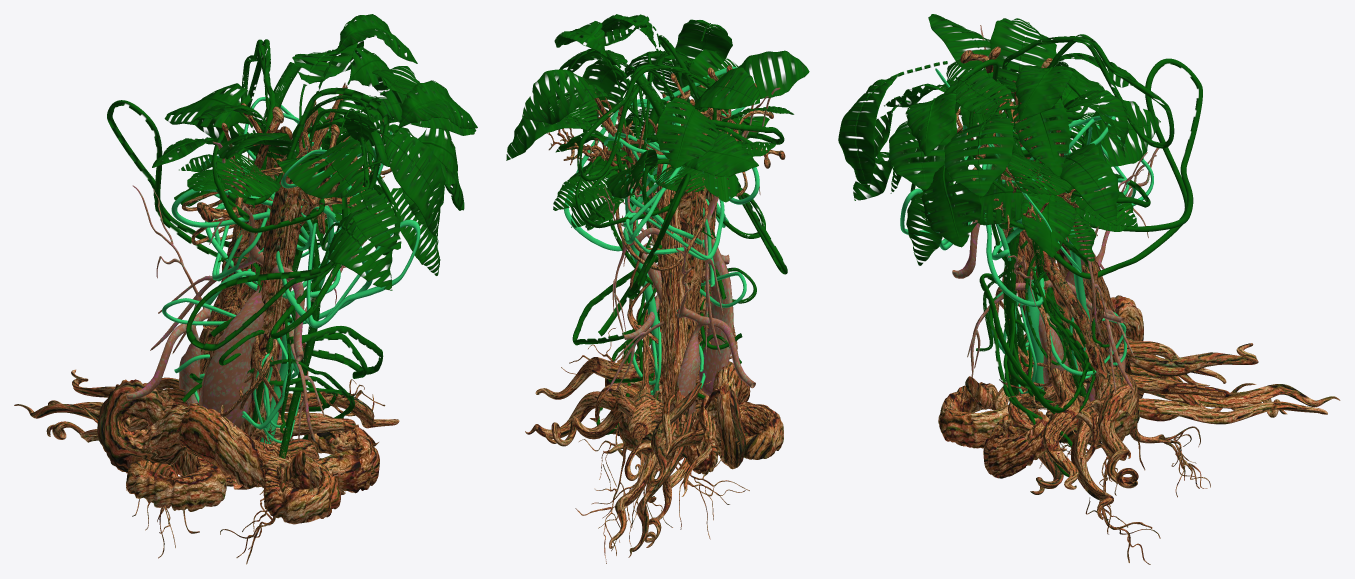
The model's file is treeone.1.glb.
3 views of the same model, side by side, from view 1: azimuth 30°, elevation 25°; view 2: azimuth 150°, elevation 25°; view 3: azimuth 270°, elevation 25° (orthographic). The views are drawn at different scales.
Visible parts, largest first — view 1: brambles_flat_brambles.001, human_liver_1128_gallbladder.007, a_steak_raw_132.026, neuron_cell_1131_a.005, jump_rope_246.042, leaf_004_mesh.006, plant.014, leaf_003_mesh.001, plant.013, leaf_003_mesh.007, human_liver_1128_gallbladder.009, leaf_009_mesh.006 (+38 smaller); view 2: brambles_flat_brambles.001, plant.013, plant.014, neuron_cell_1131_a.005, a_steak_raw_132.027, human_liver_1128_gallbladder.007, human_liver_1128_gallbladder.009, leaf_010_mesh.001, leaf_003_mesh.006, a_steak_raw_132.028, jump_rope_246.002, leaf_005_mesh.004 (+47 smaller); view 3: plant.013, brambles_flat_brambles.001, plant.014, neuron_cell_1131_a.005, leaf_005_mesh.006, jump_rope_246.040, leaf_004_mesh.006, leaf_010_mesh.006, leaf_004_mesh.005, jump_rope_246.002, leaf_010_mesh.005, leaf_004_mesh.001 (+32 smaller).
Part boxes in pixels (bbox=[...]): brambles_flat_brambles.001: bbox=[97, 379, 379, 524]; human_liver_1128_gallbladder.007: bbox=[150, 141, 304, 427]; a_steak_raw_132.026: bbox=[239, 159, 301, 441]; neuron_cell_1131_a.005: bbox=[126, 103, 385, 564]; jump_rope_246.042: bbox=[186, 87, 389, 350]; leaf_004_mesh.006: bbox=[338, 114, 445, 236]; plant.014: bbox=[225, 391, 399, 494]; leaf_003_mesh.001: bbox=[277, 139, 364, 198]; plant.013: bbox=[14, 369, 187, 442]; leaf_003_mesh.007: bbox=[321, 209, 393, 290]; human_liver_1128_gallbladder.009: bbox=[126, 185, 210, 406]; leaf_009_mesh.006: bbox=[368, 80, 477, 177]; brambles_flat_brambles.001: bbox=[605, 361, 783, 474]; plant.013: bbox=[609, 382, 716, 557]; plant.014: bbox=[525, 352, 700, 464]; neuron_cell_1131_a.005: bbox=[561, 65, 785, 563]; a_steak_raw_132.027: bbox=[656, 141, 688, 435]; human_liver_1128_gallbladder.007: bbox=[699, 87, 780, 395]; human_liver_1128_gallbladder.009: bbox=[605, 245, 755, 421]; leaf_010_mesh.001: bbox=[656, 97, 718, 168]; leaf_003_mesh.006: bbox=[522, 69, 648, 132]; a_steak_raw_132.028: bbox=[659, 157, 704, 460]; jump_rope_246.002: bbox=[577, 64, 716, 213]; leaf_005_mesh.004: bbox=[707, 50, 809, 118]; plant.013: bbox=[1119, 335, 1340, 424]; brambles_flat_brambles.001: bbox=[938, 295, 1143, 478]; plant.014: bbox=[993, 366, 1138, 519]; neuron_cell_1131_a.005: bbox=[957, 46, 1210, 564]; leaf_005_mesh.006: bbox=[944, 107, 1015, 196]; jump_rope_246.040: bbox=[1053, 58, 1202, 278]; leaf_004_mesh.006: bbox=[838, 61, 947, 190]; leaf_010_mesh.006: bbox=[921, 149, 995, 247]; leaf_004_mesh.005: bbox=[1060, 152, 1119, 225]; jump_rope_246.002: bbox=[1001, 34, 1174, 148]; leaf_010_mesh.005: bbox=[1012, 98, 1070, 176]; leaf_004_mesh.001: bbox=[990, 18, 1056, 133].
Bounding box in the file's own units: 1.49 × 2.63 × 2.24.
Materials: 17 (17 with a texture image).
